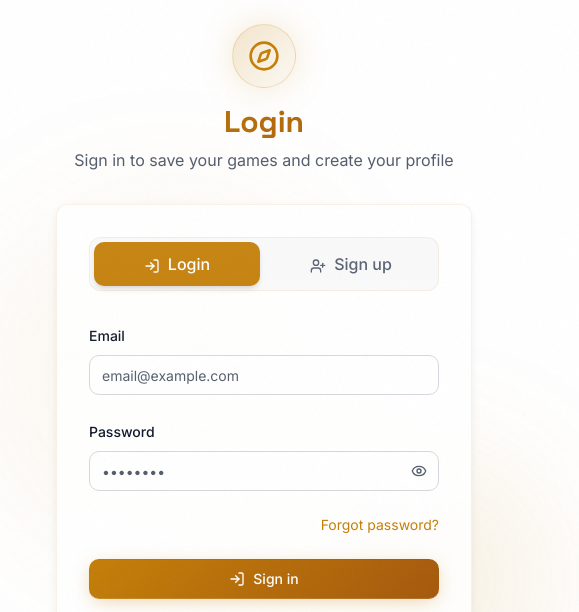
Test: Auth Page › Rendering › shows display name field only in signup mode
Expected: the field labelled "display name" is not shown
Click the button "Sign up": (351, 264) [268, 242, 434, 286]
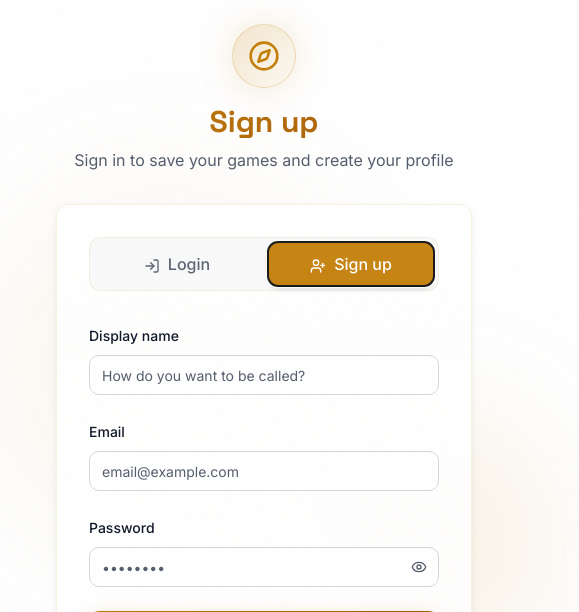
Expected: the field labelled "Display name" is shown, [89, 355, 439, 395]
